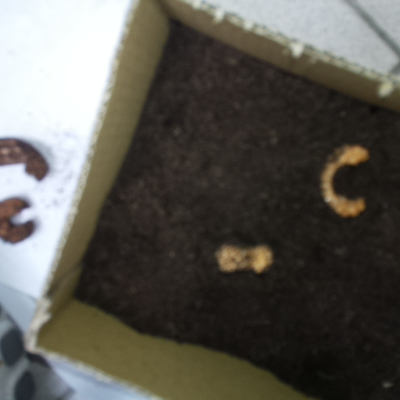eggs: (313, 136, 373, 225), (210, 234, 277, 282)
